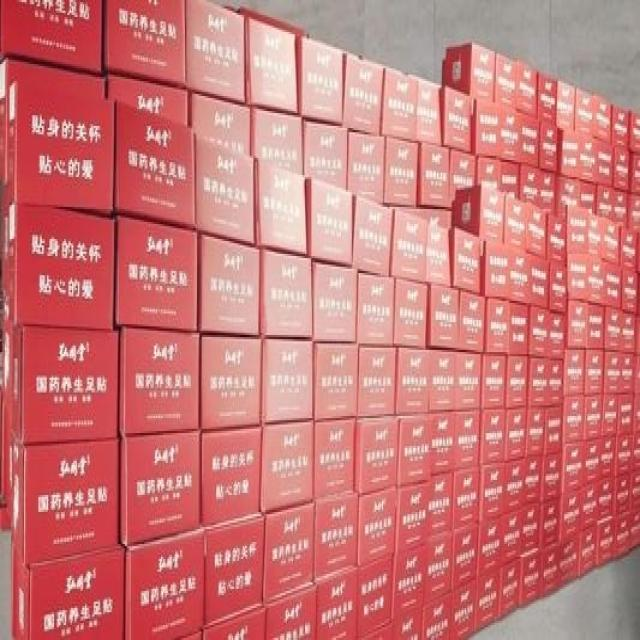box: (6, 77, 114, 218), (11, 439, 120, 565), (0, 55, 104, 186), (6, 205, 116, 326), (10, 326, 119, 446), (11, 542, 125, 640), (115, 98, 195, 228), (115, 215, 197, 329), (119, 433, 201, 546), (125, 529, 204, 640), (118, 331, 198, 433), (104, 0, 186, 90), (204, 514, 264, 629), (195, 132, 255, 245), (184, 0, 246, 105), (198, 237, 261, 335), (198, 429, 261, 527), (201, 337, 262, 429), (265, 506, 315, 604), (246, 19, 298, 113), (255, 162, 307, 256), (259, 422, 313, 510), (259, 250, 312, 339), (262, 339, 315, 425), (107, 75, 189, 126), (297, 36, 343, 124), (306, 179, 353, 265), (312, 341, 358, 425), (189, 94, 250, 156), (315, 497, 360, 580), (312, 260, 357, 341), (312, 418, 357, 499), (343, 51, 385, 137), (353, 422, 401, 495), (250, 109, 303, 175), (352, 194, 394, 275), (358, 486, 397, 570), (316, 565, 358, 640), (357, 553, 394, 638), (444, 43, 496, 102), (303, 122, 348, 190), (358, 348, 399, 420), (357, 273, 396, 348), (391, 542, 427, 623), (450, 190, 506, 241), (381, 68, 419, 141), (389, 209, 427, 282), (265, 585, 316, 638), (347, 132, 384, 205), (393, 279, 429, 348), (397, 416, 433, 484), (384, 139, 419, 207), (396, 348, 432, 414), (439, 85, 473, 154), (204, 604, 265, 640), (425, 531, 453, 608), (449, 230, 482, 294), (426, 288, 459, 350), (418, 145, 450, 207), (396, 489, 429, 548), (451, 527, 479, 593), (429, 410, 456, 478), (453, 352, 483, 412), (415, 79, 442, 145), (453, 405, 480, 471), (427, 474, 453, 542), (479, 239, 509, 297), (479, 463, 507, 525), (453, 467, 480, 531), (449, 149, 477, 209), (429, 350, 455, 414), (453, 410, 480, 471), (451, 582, 478, 640), (459, 294, 485, 354), (426, 222, 451, 284), (479, 412, 507, 467), (478, 516, 502, 580), (503, 198, 530, 254), (483, 301, 510, 356), (503, 459, 530, 514), (494, 51, 518, 111), (504, 410, 531, 463), (475, 574, 500, 631), (472, 102, 498, 156), (483, 356, 508, 410), (506, 356, 530, 412), (497, 563, 521, 619), (497, 107, 521, 162), (521, 457, 545, 512), (501, 512, 522, 574), (389, 207, 451, 228), (508, 245, 530, 303), (520, 501, 542, 559), (540, 495, 562, 553), (556, 128, 581, 179), (1, 320, 13, 425), (516, 62, 538, 119), (560, 489, 582, 546), (527, 356, 551, 407), (526, 205, 549, 258), (528, 305, 551, 358), (424, 595, 451, 640), (527, 256, 550, 307), (563, 442, 586, 493), (520, 553, 542, 606), (539, 452, 563, 499), (566, 209, 590, 254), (544, 403, 564, 457), (560, 535, 580, 589), (509, 303, 530, 354), (540, 548, 561, 599), (521, 113, 540, 169), (578, 527, 598, 580), (599, 215, 620, 265), (574, 87, 594, 139), (567, 303, 590, 348), (545, 215, 567, 262), (564, 395, 585, 444), (582, 439, 602, 489), (393, 606, 424, 638), (0, 215, 10, 314), (557, 177, 580, 220), (599, 395, 620, 442), (549, 256, 566, 314), (584, 348, 604, 397), (579, 484, 599, 533), (528, 403, 546, 457), (557, 81, 576, 132), (566, 348, 585, 399), (599, 435, 618, 486), (597, 476, 616, 527), (594, 94, 612, 147), (539, 122, 557, 175), (549, 305, 567, 358), (567, 254, 588, 299), (620, 226, 640, 273), (1, 414, 11, 508), (538, 75, 557, 124), (578, 134, 597, 183), (596, 139, 615, 188), (584, 393, 603, 442), (614, 476, 634, 521), (597, 523, 617, 567), (500, 160, 521, 201), (520, 164, 540, 207), (603, 307, 622, 352), (604, 262, 622, 309), (611, 105, 630, 149), (539, 169, 557, 215), (612, 145, 629, 192), (588, 256, 605, 303), (549, 356, 564, 407), (604, 348, 620, 395), (622, 267, 638, 314), (475, 160, 500, 190), (615, 435, 633, 476), (618, 354, 635, 397), (590, 305, 606, 350), (614, 516, 630, 559), (588, 215, 602, 262), (621, 311, 636, 354), (617, 399, 634, 435), (612, 192, 627, 228), (581, 179, 596, 213), (627, 194, 640, 233), (628, 154, 640, 194), (597, 186, 611, 220), (360, 623, 391, 638), (629, 113, 640, 154), (629, 476, 640, 516), (629, 512, 640, 550), (632, 437, 640, 476), (633, 354, 640, 397), (633, 399, 640, 439), (0, 506, 11, 527), (635, 314, 640, 354), (636, 275, 640, 314), (442, 60, 444, 85)
